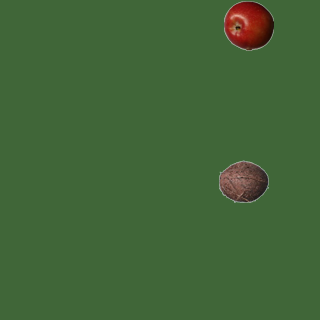Apple Braeburn: (223, 0, 273, 50)
Cocos: (218, 156, 268, 206)
